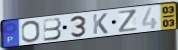3: (69, 14, 88, 39)
4: (141, 6, 159, 30)
B: (43, 17, 63, 42)
K: (92, 12, 109, 35)
O: (20, 20, 42, 43)
Z: (117, 8, 139, 34)
